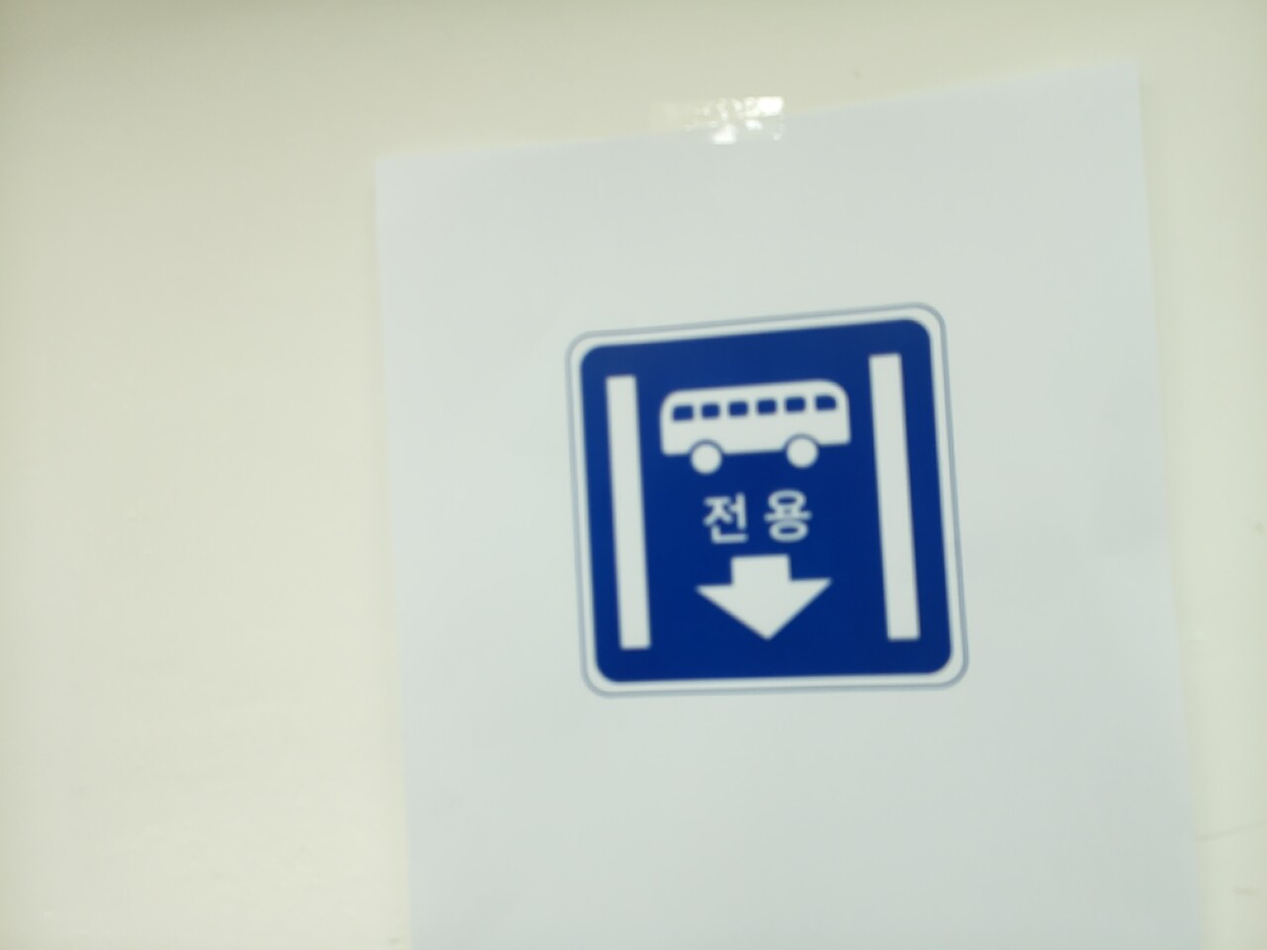bus_only_lane: (569, 309, 962, 694)
